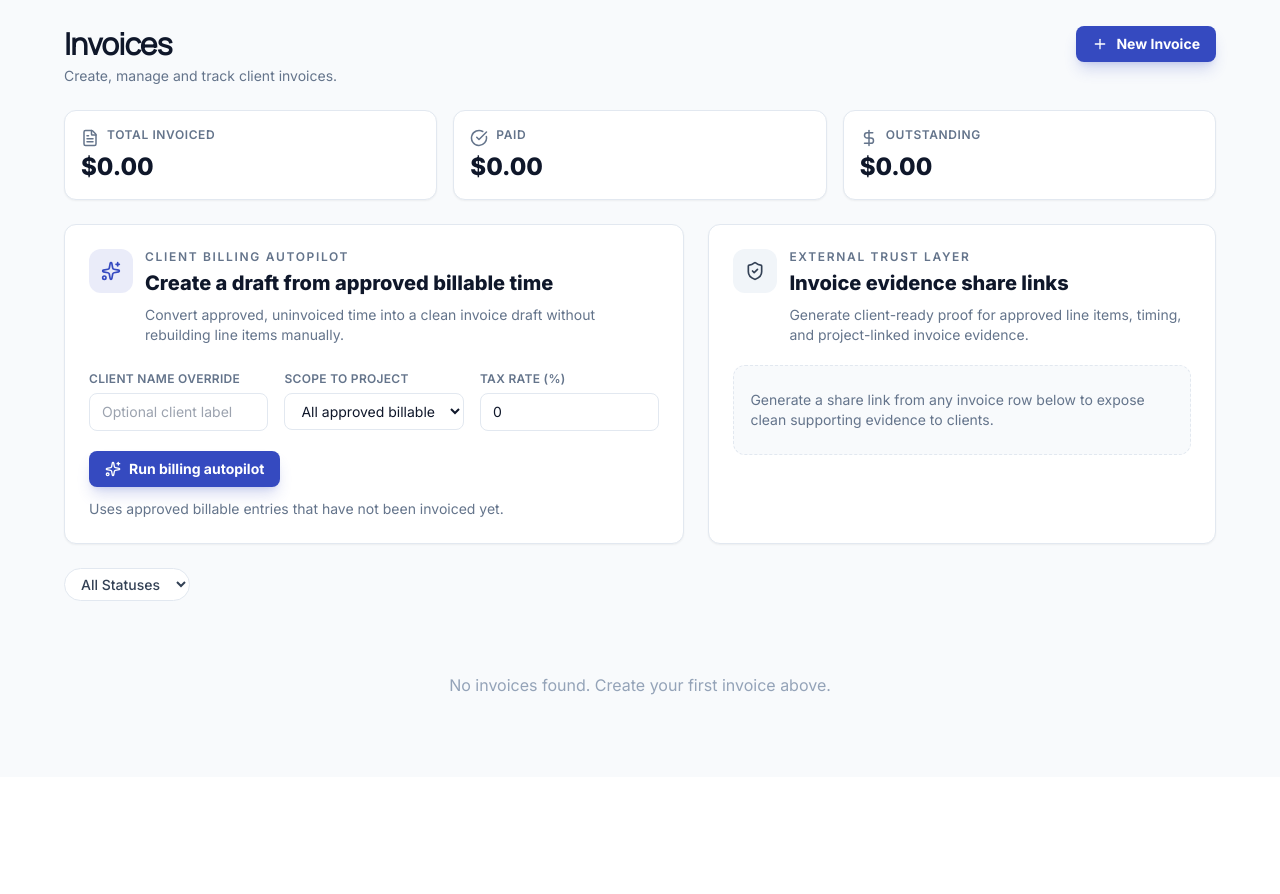
Scenario: UAT remediation regressions › shows visible API error feedback when invoice create fails
Click the button "New Invoice": (1146, 44) top-left (1076, 26), bottom-right (1216, 62)
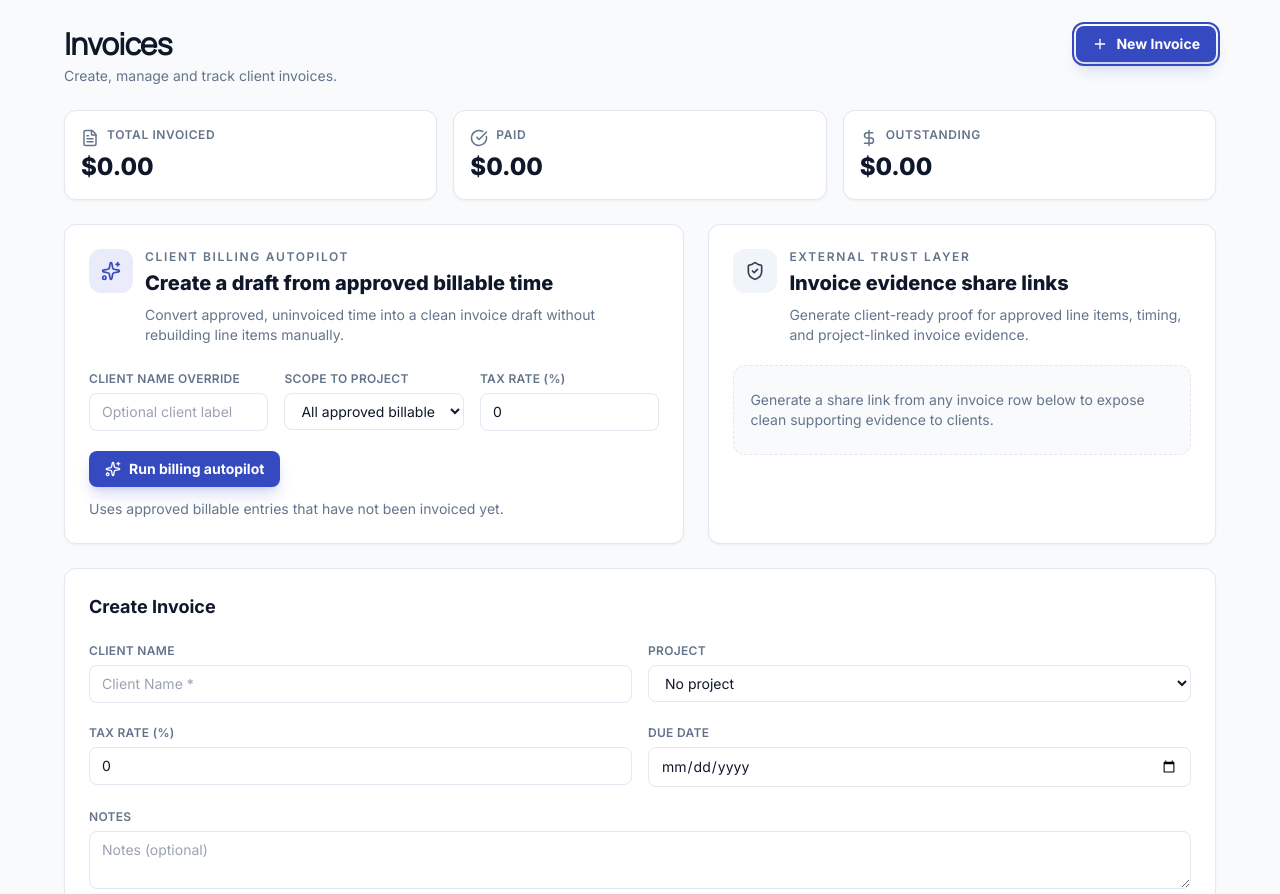
In the field with placeholder "Client Name *": (360, 684) top-left (89, 665), bottom-right (632, 703), type "Acme Corp"
(page scrolled)
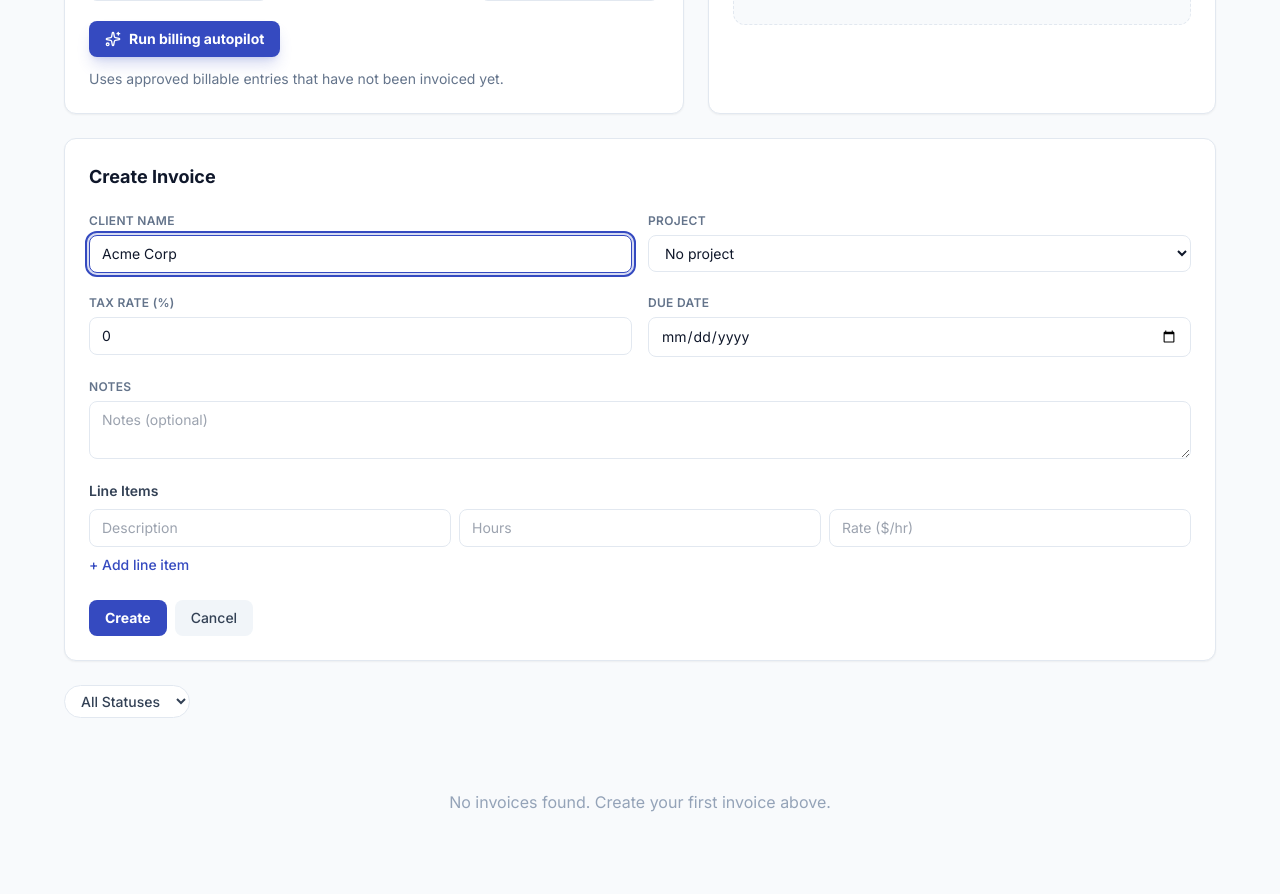
In the field with placeholder "Description": (270, 528) top-left (89, 509), bottom-right (451, 547), type "Design work"
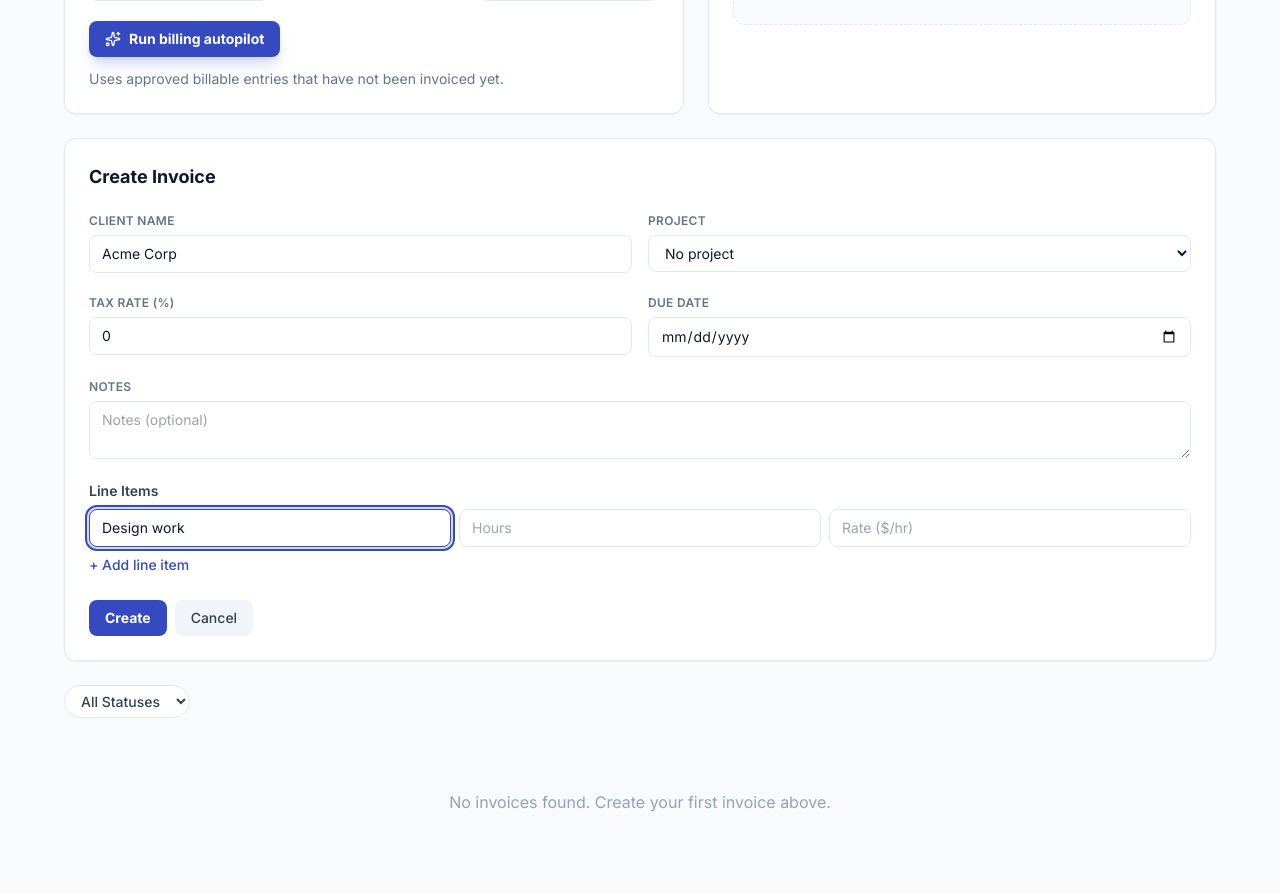
In the number field with placeholder "Hours": (640, 528) top-left (459, 509), bottom-right (821, 547), type "2"
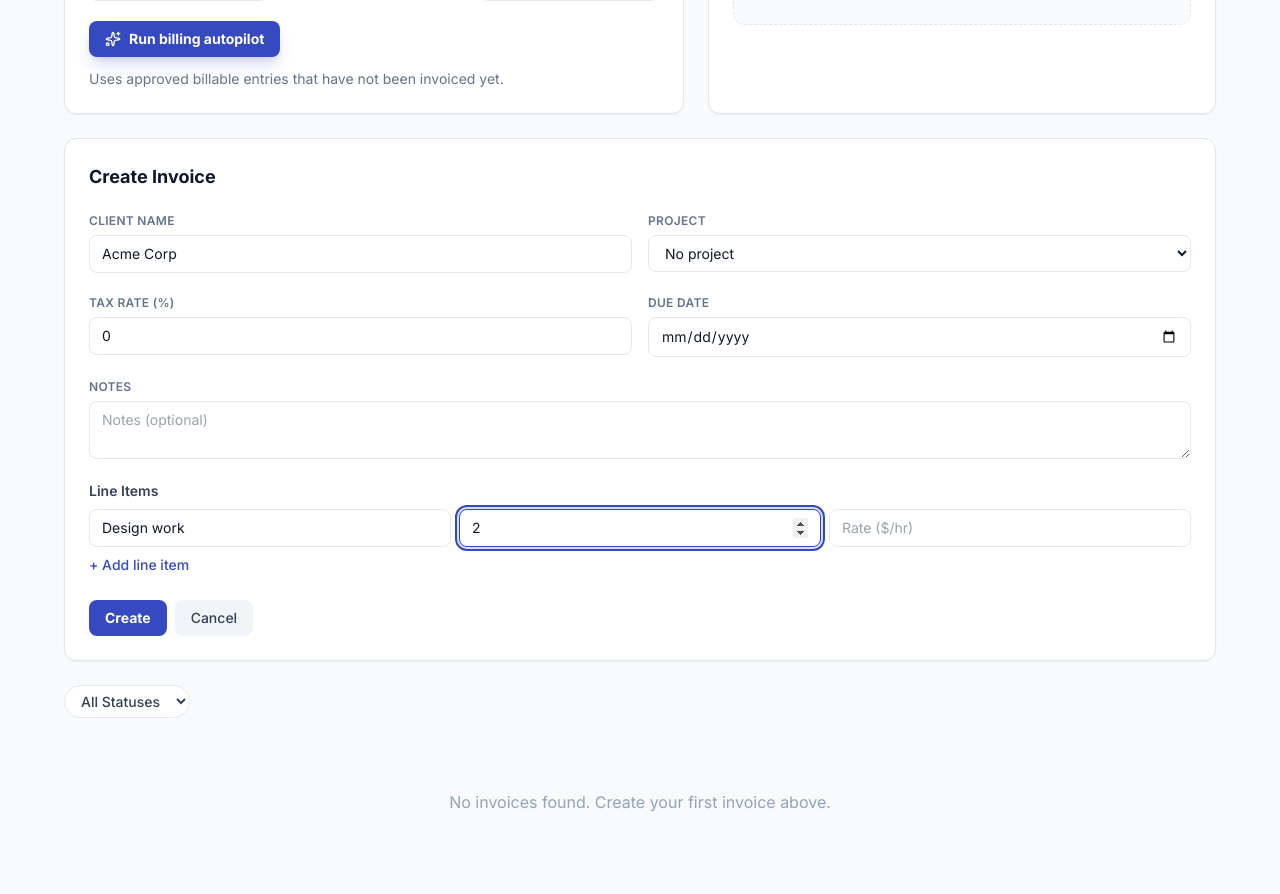
In the number field with placeholder "Rate ($/hr)": (1010, 528) top-left (829, 509), bottom-right (1191, 547), type "60"
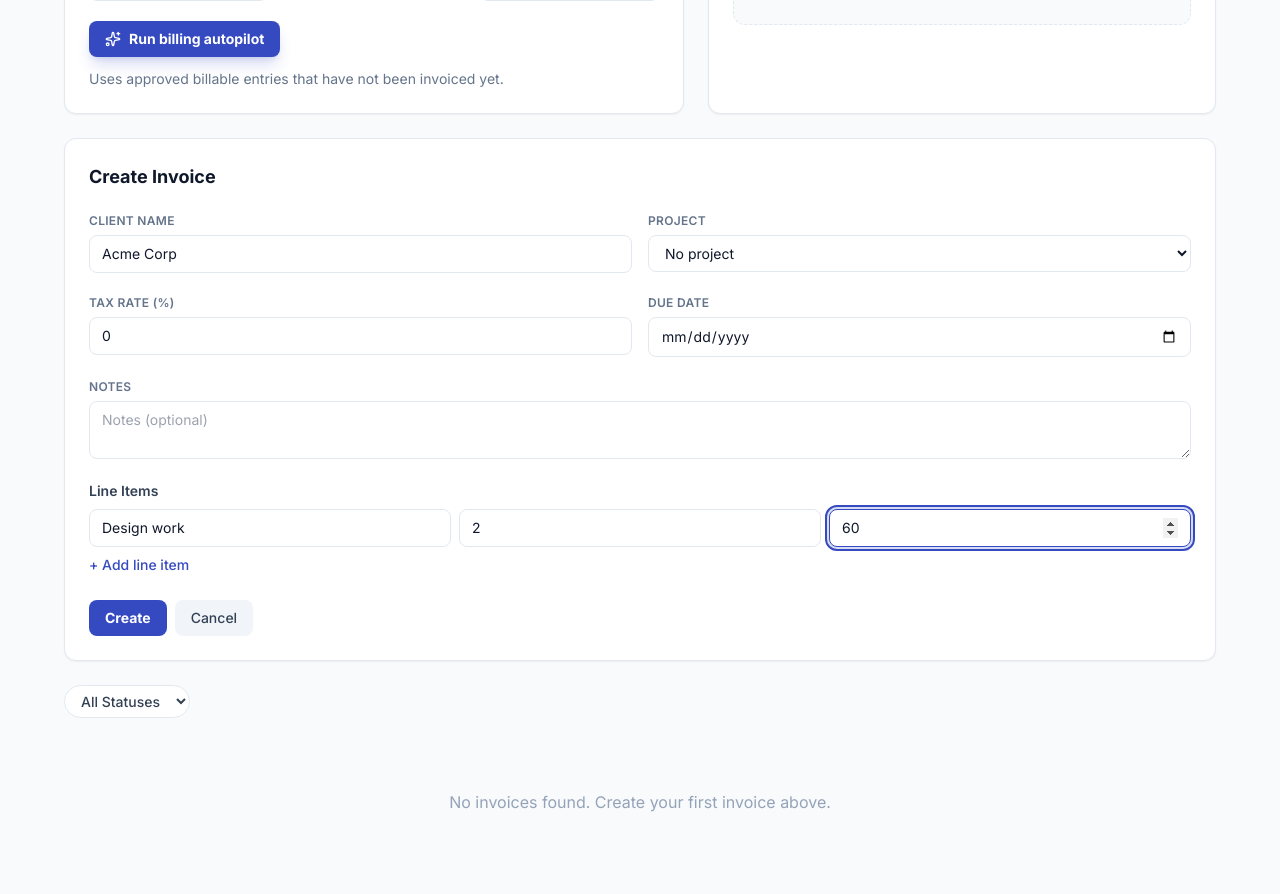
Click the button "Create": (128, 618) top-left (89, 600), bottom-right (167, 636)
(page scrolled)
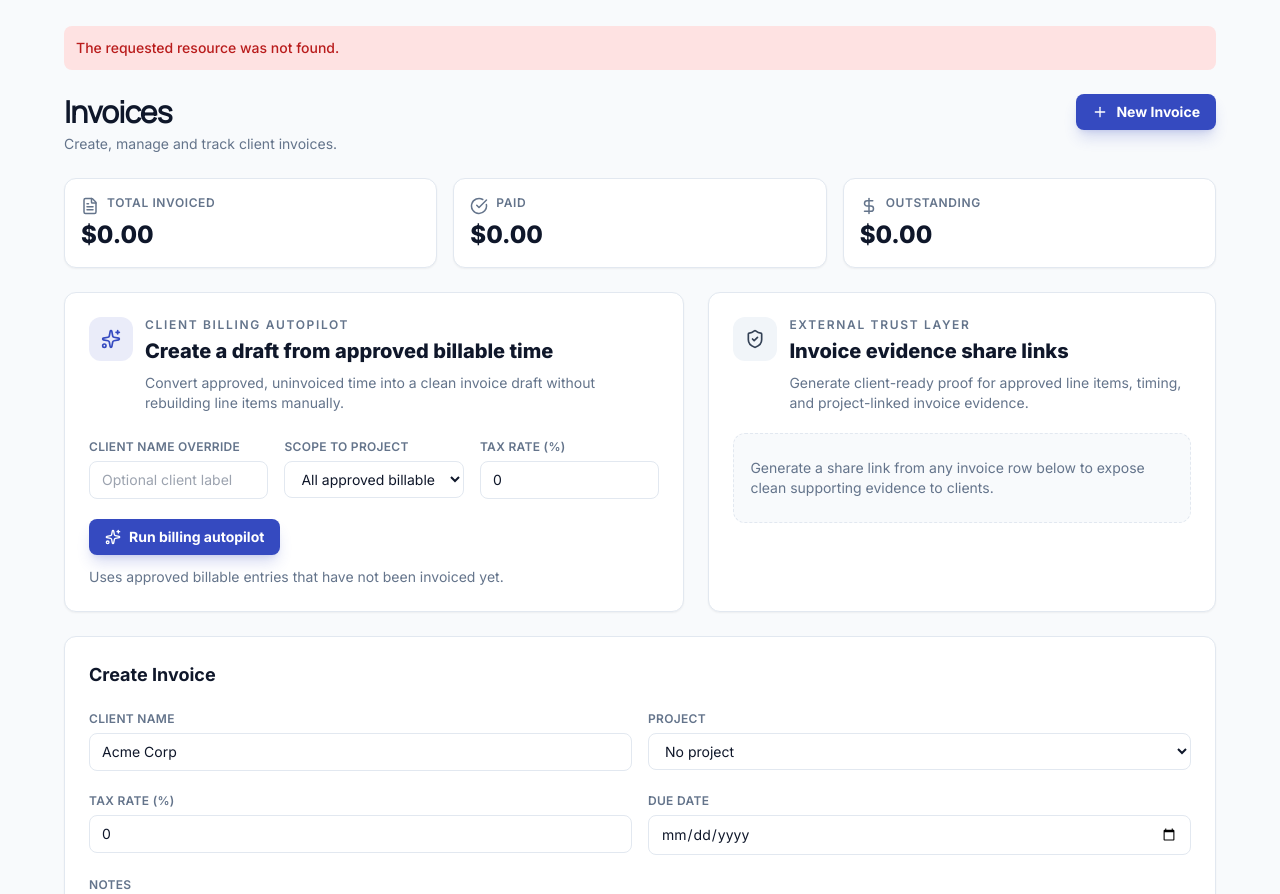
expect the text "The requested resource was not found." is shown: met, box top-left (64, 26), bottom-right (1216, 70)
